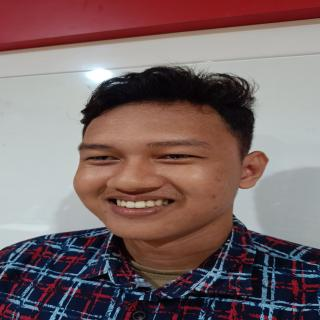Senang: (67, 93, 260, 244)
